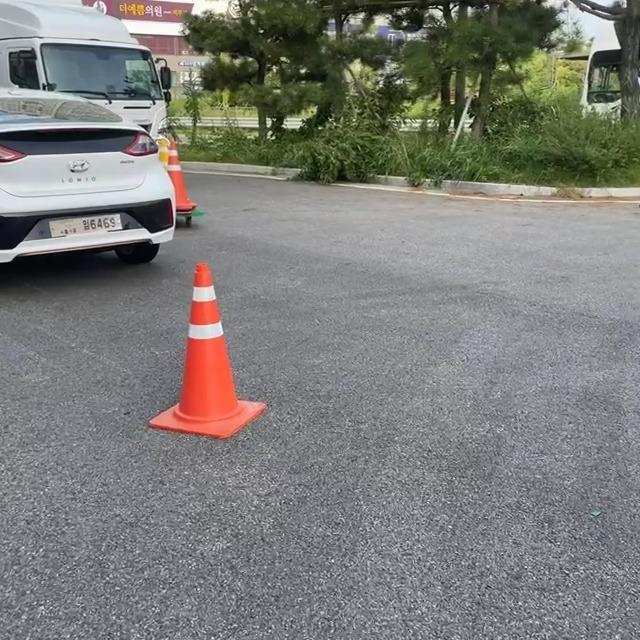fallen_object: (158, 250, 320, 466), (123, 120, 232, 250)
